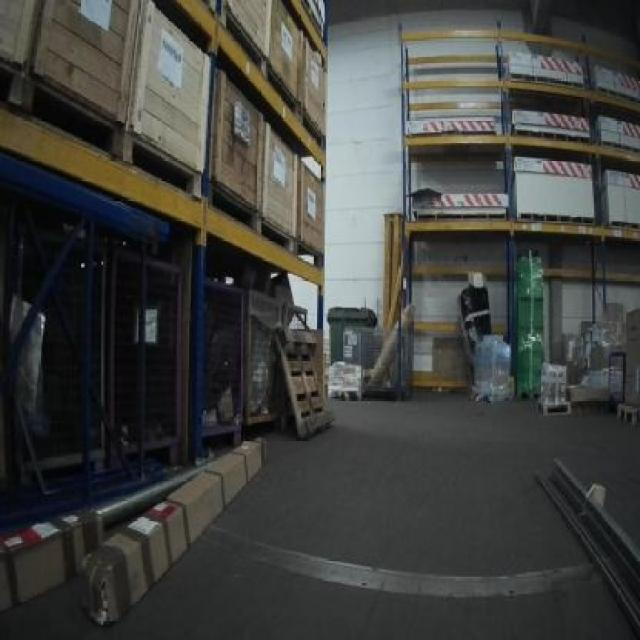floor: (0, 391, 637, 637), (209, 525, 591, 598)
pallets: (85, 437, 263, 622), (85, 437, 262, 622)
